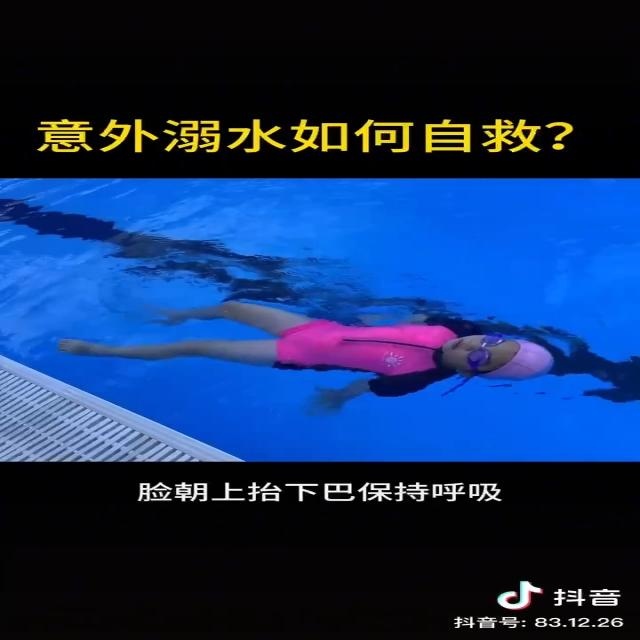Drowning: (51, 302, 562, 408)
